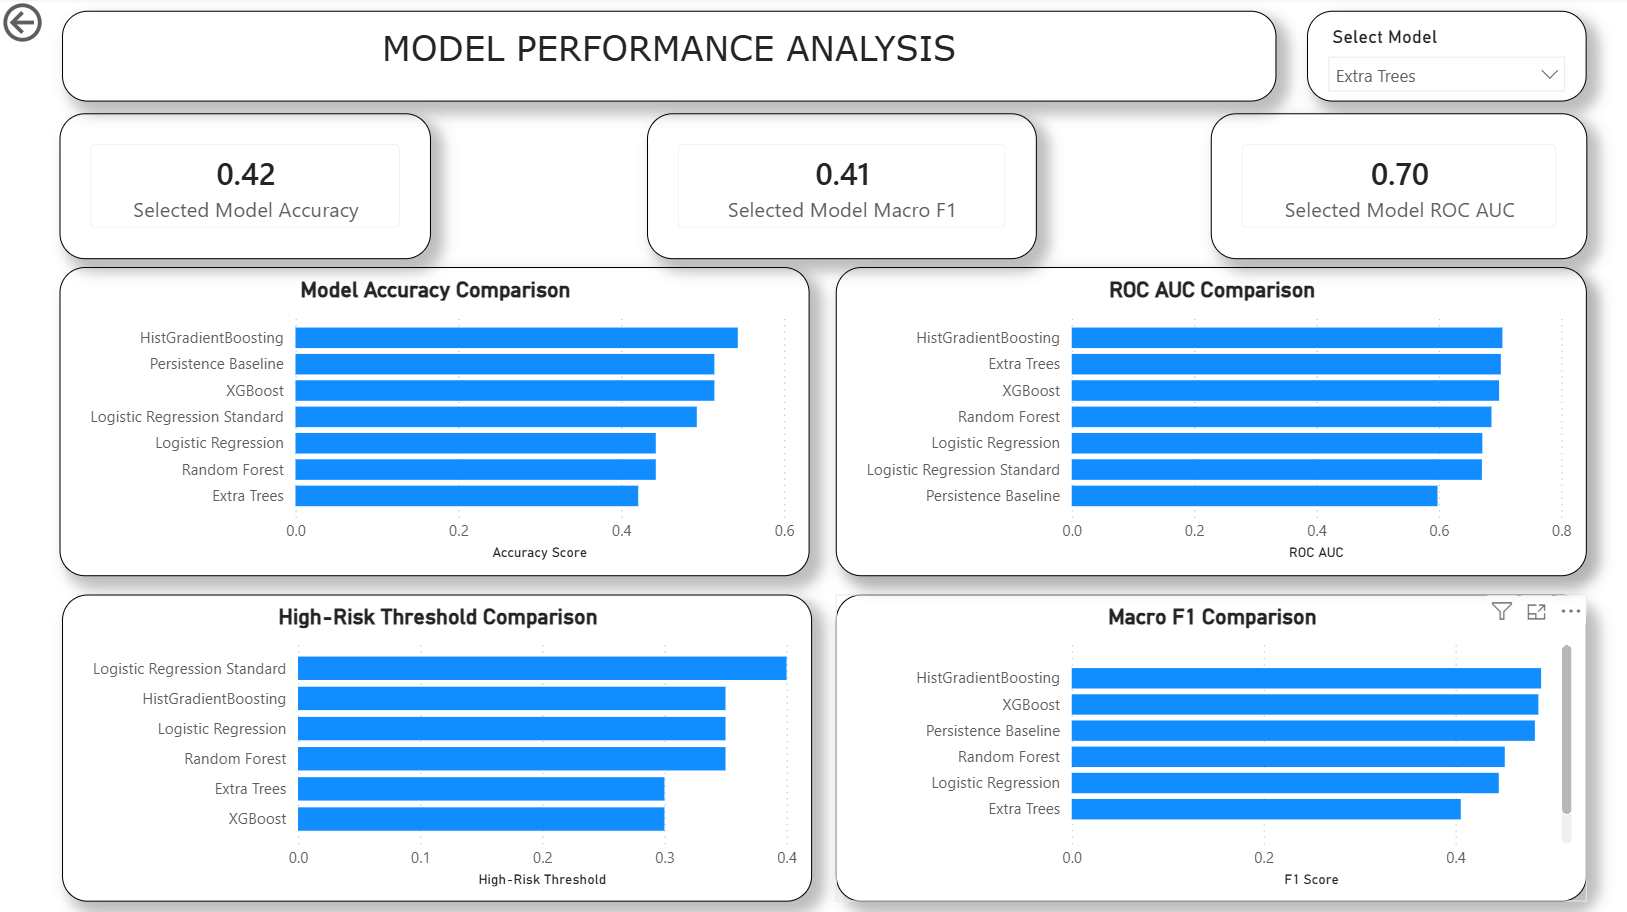

The page's visual inventory and layout, read from the dashboard file:
{"tool":"powerbi","page":{"name":"Risk_Trend_Analysis","canvas":[1280,720],"ordinal":2},"visuals":[{"type":"clusteredBarChart","title":"Model Accuracy Comparison","fields":{"Category":["model_benchmark.Model"],"Y":["Avg(model_benchmark.Accuracy)"]},"box":[49.4,211.3,588,242],"z":0},{"type":"clusteredBarChart","title":"Macro F1 Comparison","fields":{"Category":["model_benchmark.Model"],"Y":["Avg(model_benchmark.Macro_F1)"]},"box":[657,468,589,241],"z":1000},{"type":"clusteredBarChart","title":"ROC AUC Comparison","fields":{"Category":["model_benchmark.Model"],"Y":["Avg(model_benchmark.ROC_AUC_OVR_Macro)"]},"box":[657.3,211.3,588.7,242],"z":2000},{"type":"slicer","fields":{"Values":["model_benchmark.Model"]},"box":[1026.4,11,219.6,71.4],"z":3000},{"type":"actionButton","box":[0,0,100,40],"z":4000},{"type":"cardVisual","fields":{"Data":["Avg(model_benchmark.Accuracy)"]},"box":[48.8,90.7,291.1,114.7],"z":4000,"group":"g1"},{"type":"cardVisual","fields":{"Data":["Avg(model_benchmark.Macro_F1)"]},"box":[509.3,90.7,305.7,114.7],"z":5000,"group":"g1"},{"type":"clusteredBarChart","title":"High-Risk Threshold Comparison","fields":{"Category":["model_benchmark.Model"],"Y":["Avg(model_benchmark.High_Risk_Threshold)"]},"box":[50.8,467.9,588,241],"z":5000},{"type":"group","id":"g1","title":"Group 1","box":[48.8,90.7,1197.7,115.1],"z":6000},{"type":"cardVisual","fields":{"Data":["Avg(model_benchmark.ROC_AUC_OVR_Macro)"]},"box":[951.3,90.7,295.1,114.7],"z":6000,"group":"g1"},{"type":"textbox","box":[50.8,11,952.3,71.4],"z":7000}]}

Visuals, with their boxes in screenshot pixels (x1, y1, x2, y2), scaled from the page's 1280x720 canvas onto the 1627x912 screenshot:
"Model Accuracy Comparison" clusteredBarChart: detection(63, 268, 810, 574)
"Macro F1 Comparison" clusteredBarChart: detection(835, 593, 1584, 898)
"ROC AUC Comparison" clusteredBarChart: detection(835, 268, 1584, 574)
slicer - model_benchmark.Model: detection(1305, 14, 1584, 104)
actionButton: detection(0, 0, 127, 51)
cardVisual - Avg(model_benchmark.Accuracy): detection(62, 115, 432, 260)
cardVisual - Avg(model_benchmark.Macro_F1): detection(647, 115, 1036, 260)
"High-Risk Threshold Comparison" clusteredBarChart: detection(65, 593, 812, 898)
"Group 1" group: detection(62, 115, 1584, 261)
cardVisual - Avg(model_benchmark.ROC_AUC_OVR_Macro): detection(1209, 115, 1584, 260)
textbox: detection(65, 14, 1275, 104)
